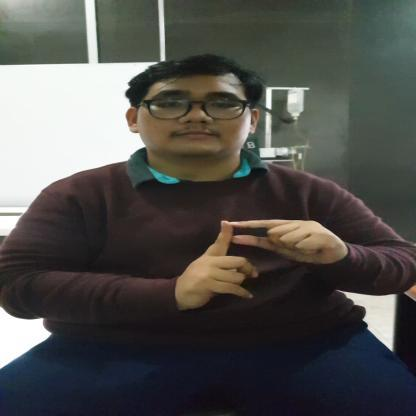P: (176, 218, 342, 312)
